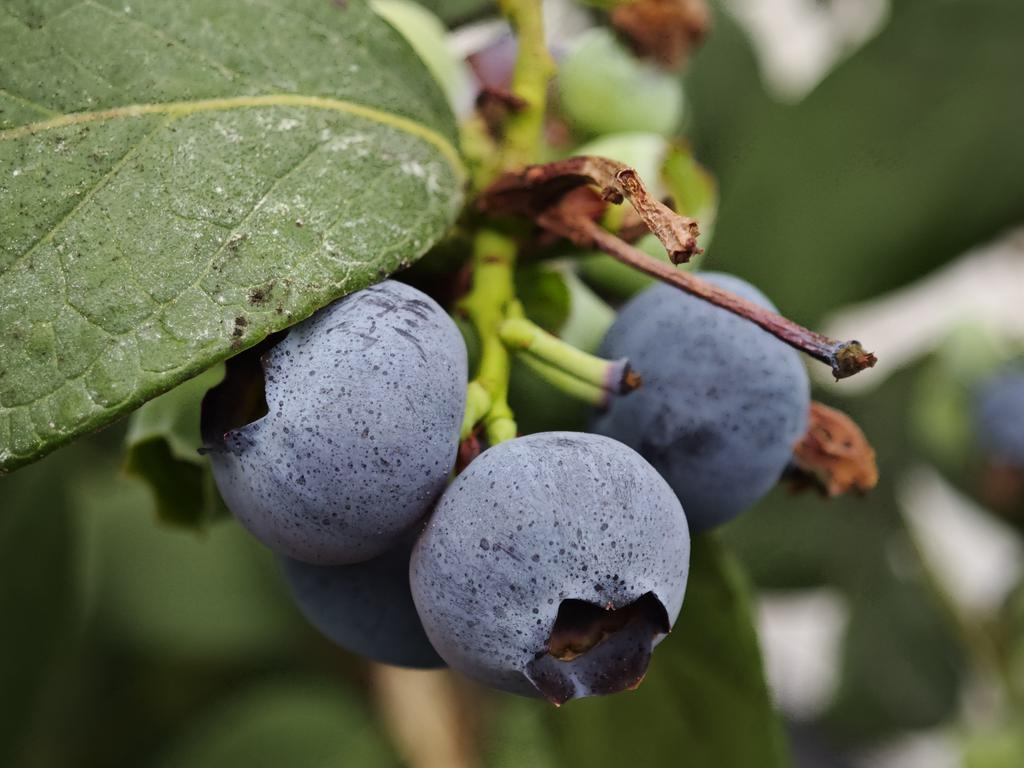RipeBlueBerry: (404, 428, 694, 710), (195, 277, 470, 571)
